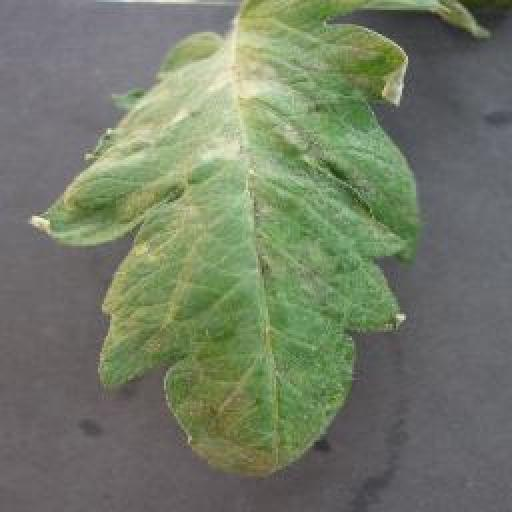disease_tomato: (25, 0, 491, 483)
